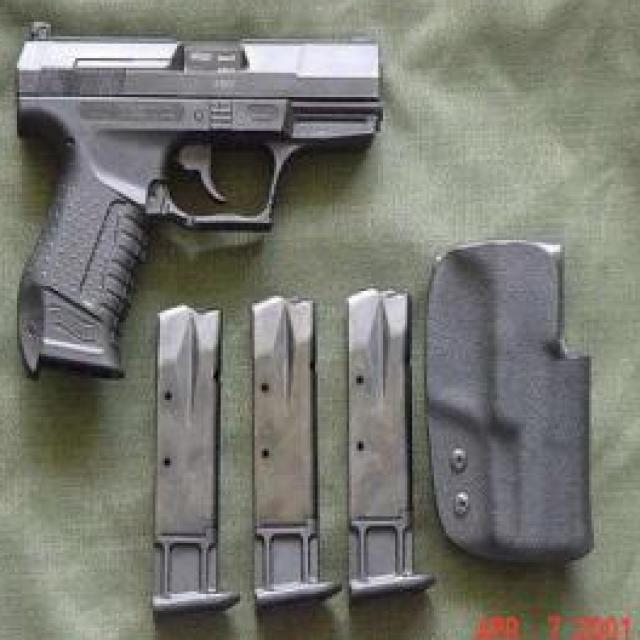pistol: (14, 14, 387, 382)
